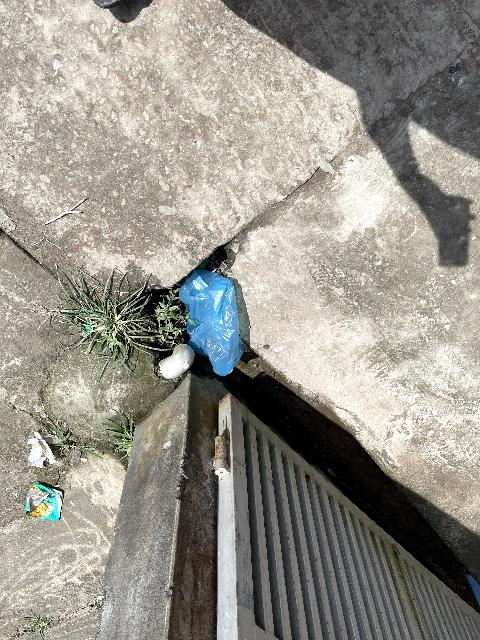polythene: (163, 262, 259, 368)
